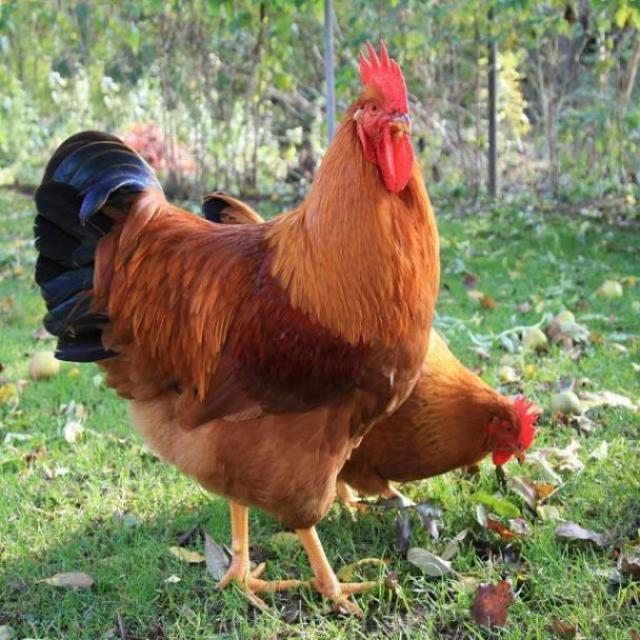Chicken: (24, 28, 438, 620), (195, 185, 531, 539)
